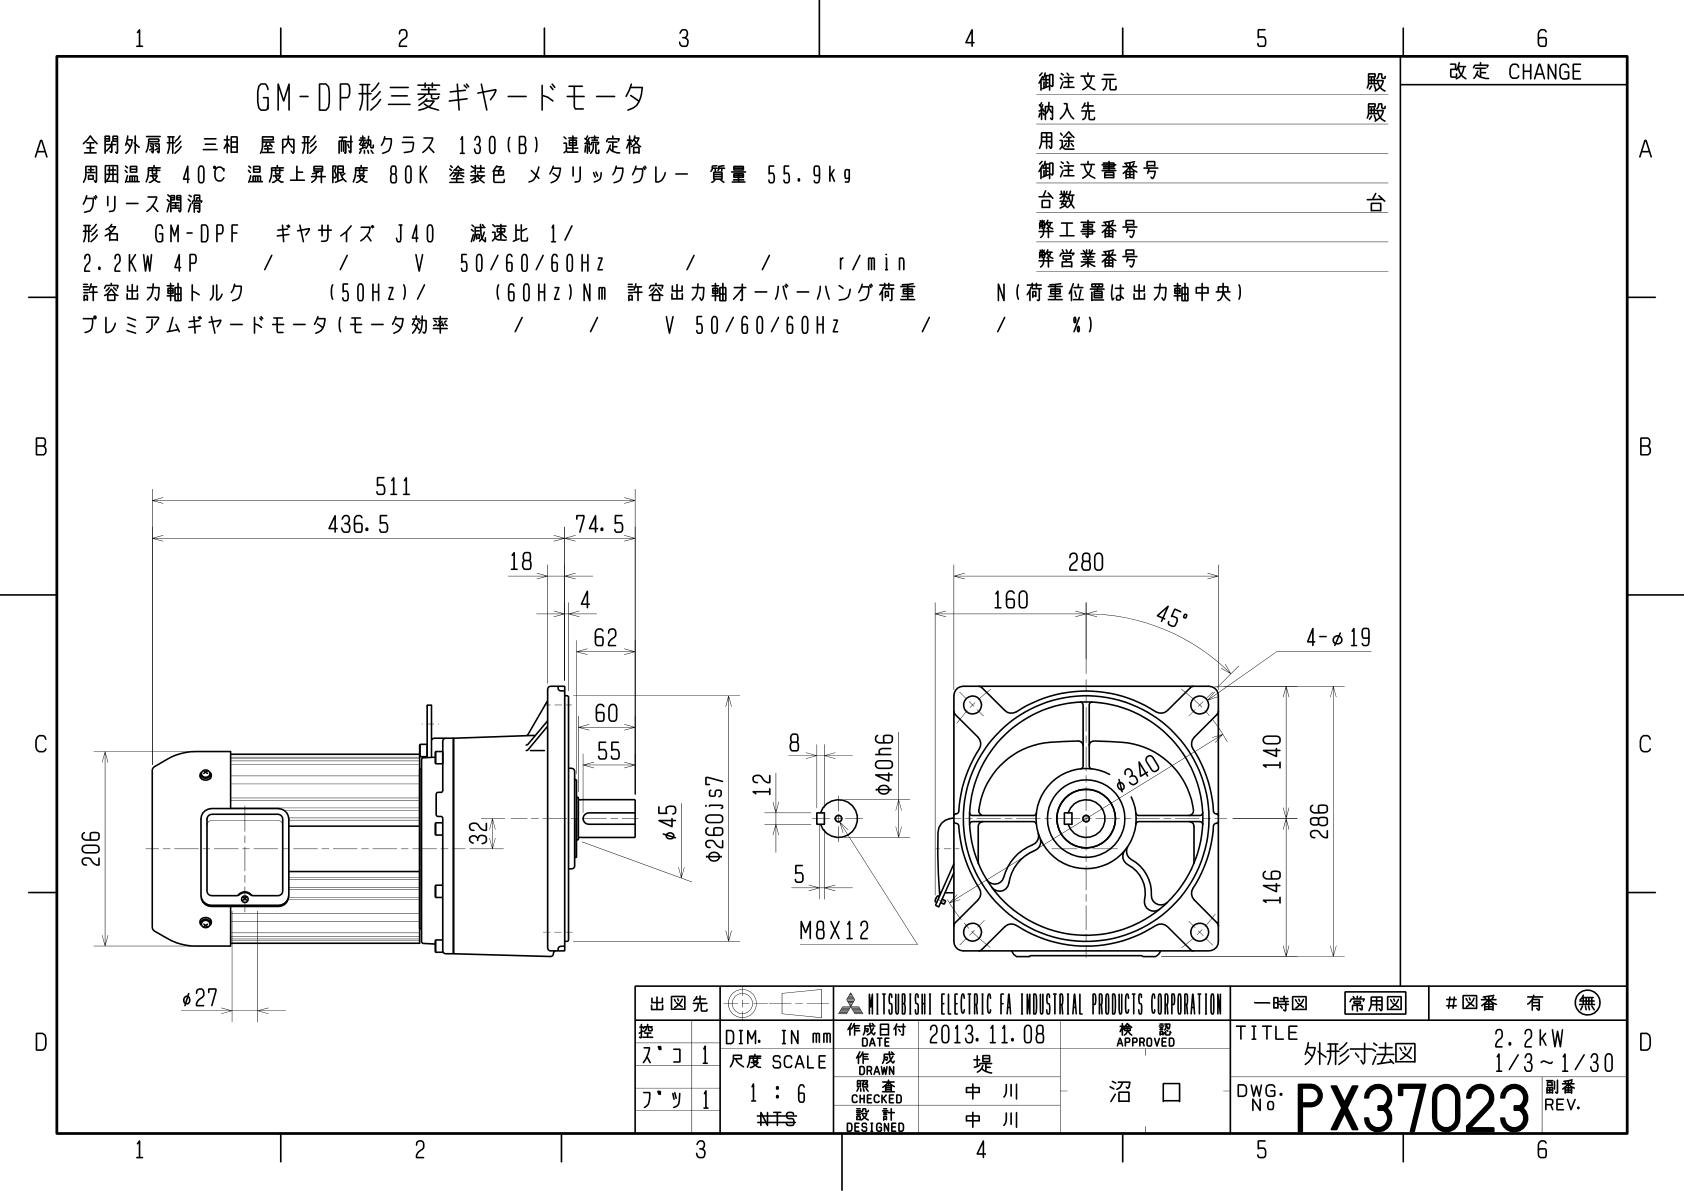GM_DP_屋内_三相_フランジ: (75, 434, 1389, 974)
